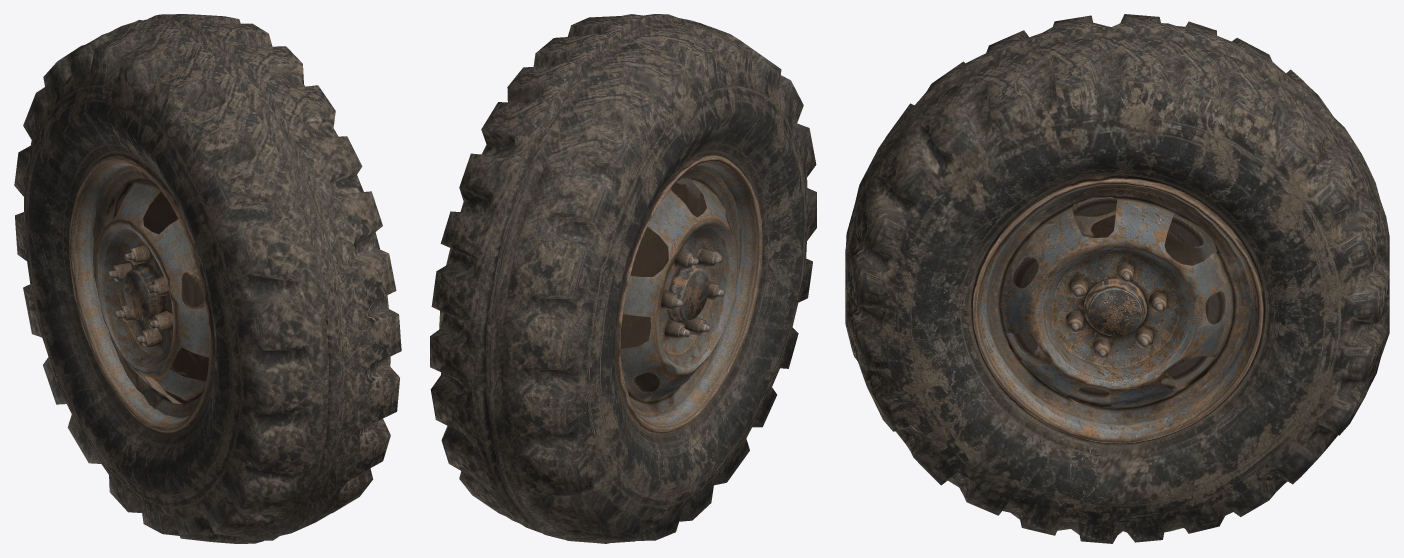
Rendered from truck_wheel.glb.
The picture shows the model from 3 angles, left to right: view 1: azimuth 30°, elevation 25°; view 2: azimuth 150°, elevation 25°; view 3: azimuth 270°, elevation 25°; orthographic projection. The views are drawn at different scales.
Visible parts, largest first — view 1: Mesh_0; view 2: Mesh_0; view 3: Mesh_0.
Part boxes in pixels (x1,y1,x2,y2): Mesh_0: (14,14,401,543); Mesh_0: (430,14,816,543); Mesh_0: (845,14,1389,543).
Bounding box in the file's own units: 0.306 × 0.84 × 0.84.
Materials: 1 (1 with a texture image).
